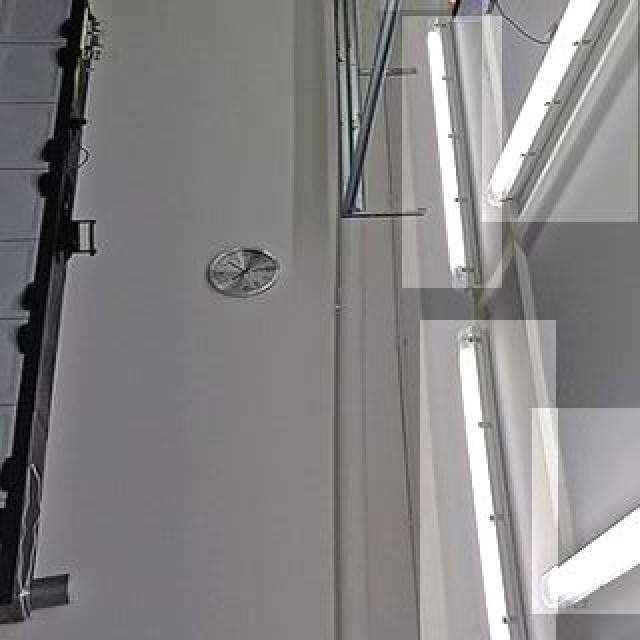fluorescent tube: (476, 0, 636, 226), (435, 327, 538, 640), (403, 0, 505, 300), (538, 400, 640, 612), (380, 0, 460, 18)
